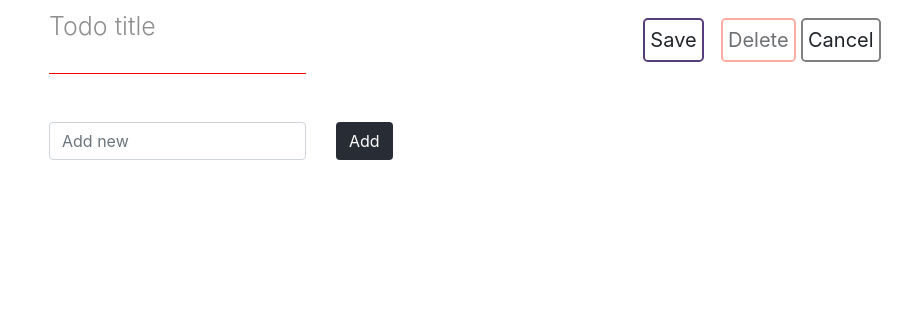
Test: Editing an existing todo - todo 1 › should render a textfield replacing the clicked todo
Type "This is todo task 0" into the field with placeholder "Add new" at (178, 141), box [49,122,306,160]
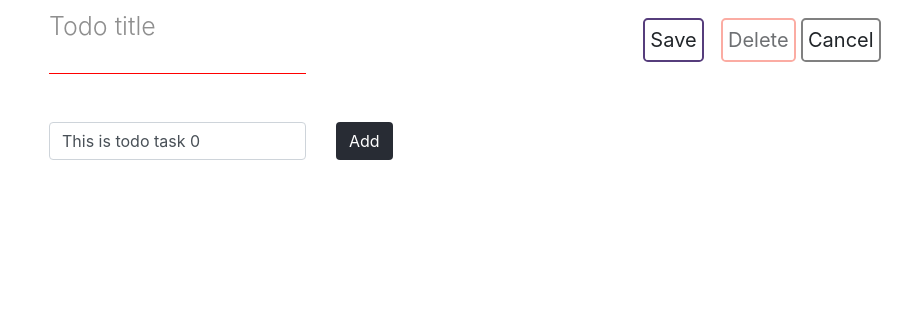
Click the button "Add" at (364, 141), box [336,122,393,160]
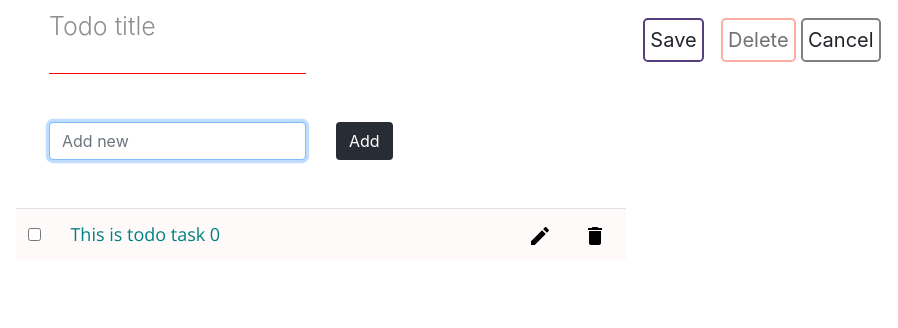
Type "This is todo task 1" into the field with placeholder "Add new" at (178, 141), box [49,122,306,160]
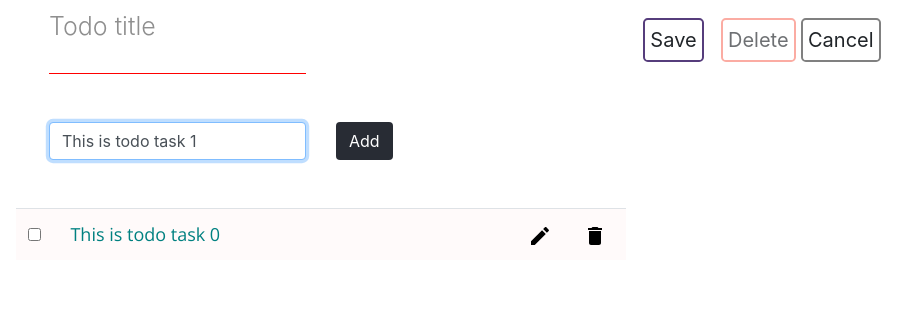
Click the button "Add" at (364, 141), box [336,122,393,160]
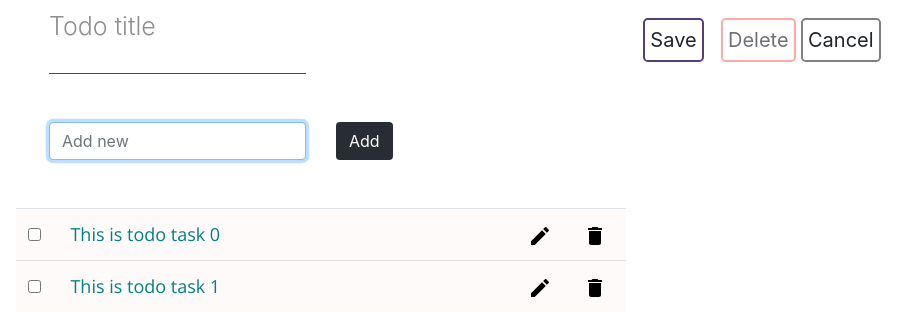
Click the icon with test id "edit-icon-1" at (540, 288), box [528,276,552,300]
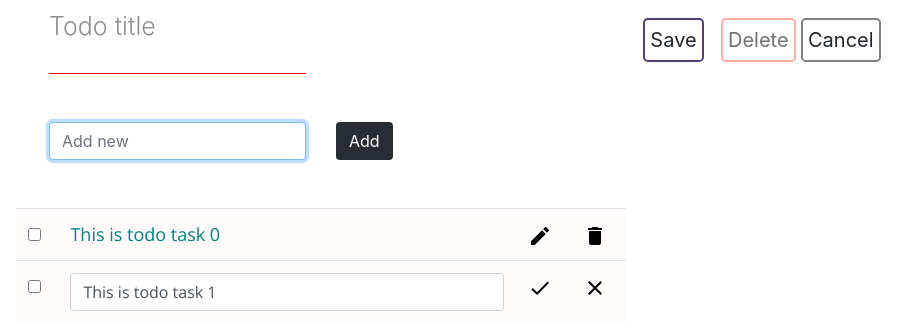
Expected: the field named "edit-todo-tf-1" is shown, [70,273,504,311]
